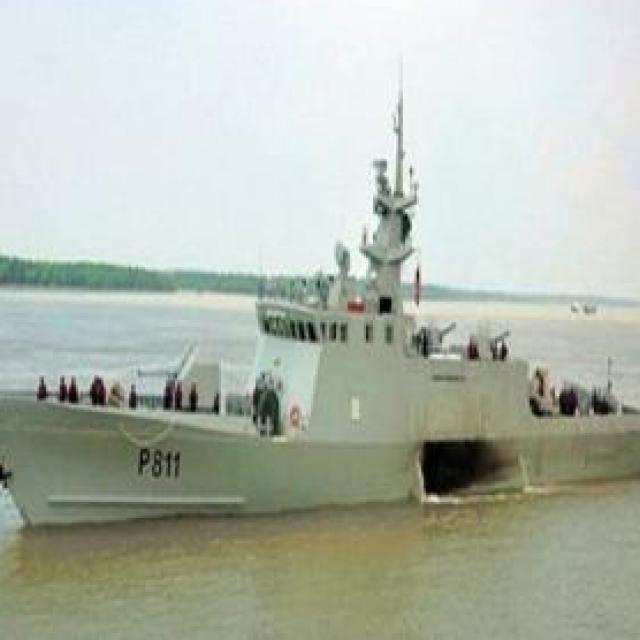navalvessels: (0, 106, 640, 522)
